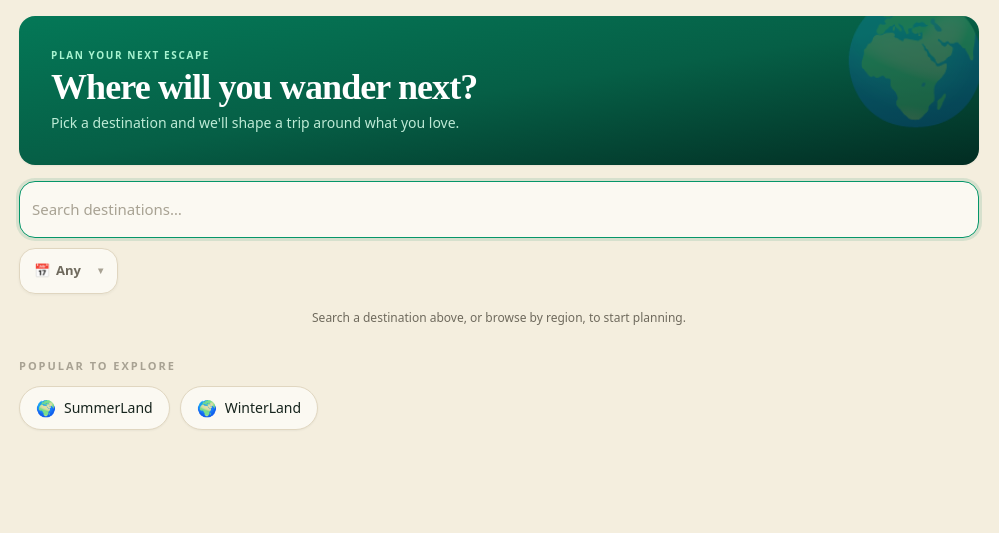
Test case: DestinationPicker › month filter › re-ranks the explore board by month fit and heads it 'Best in <month>'
This screenshot has width=999, height=533.
Click the button with aria-label "travel month" at x=68, y=270, box [19,248,118,294]
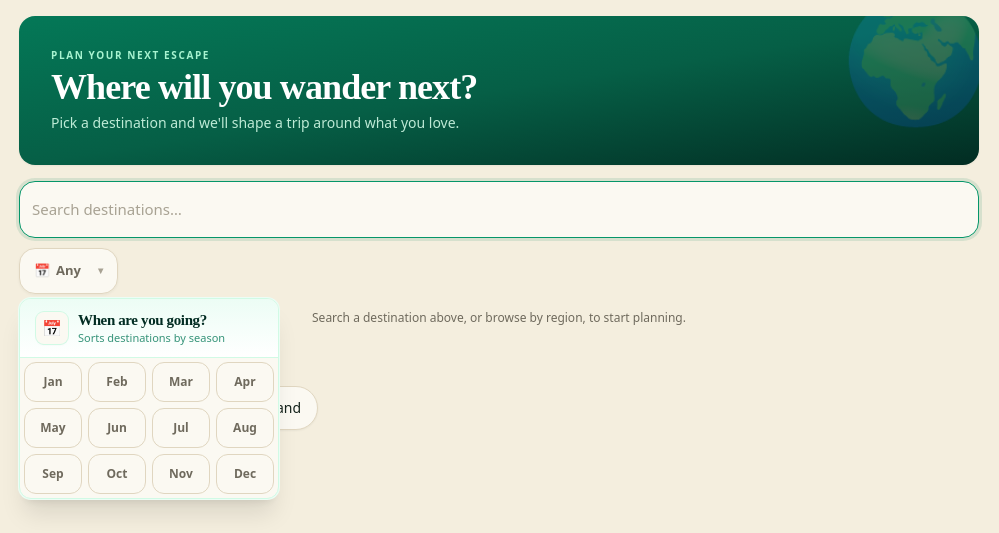
Click the button with aria-label "July" at x=181, y=428, box [152,408,210,448]
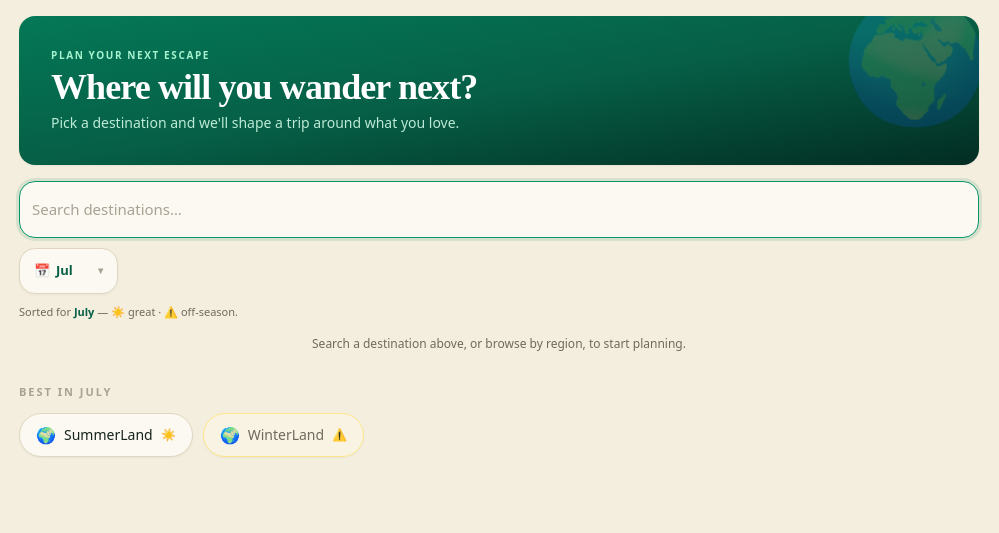
Now the picture named "great in July" is shown, box [161,428,176,440]
Now the picture named "avoid July" is shown, box [332,428,347,440]
